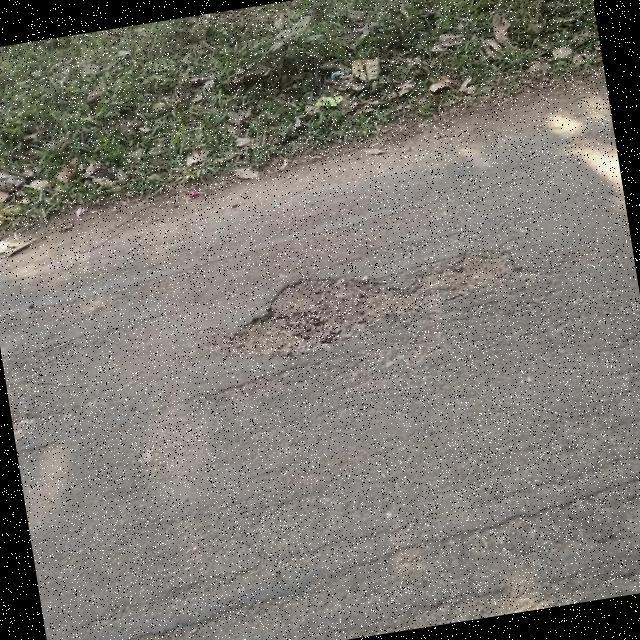Pothole: (226, 249, 551, 359)
